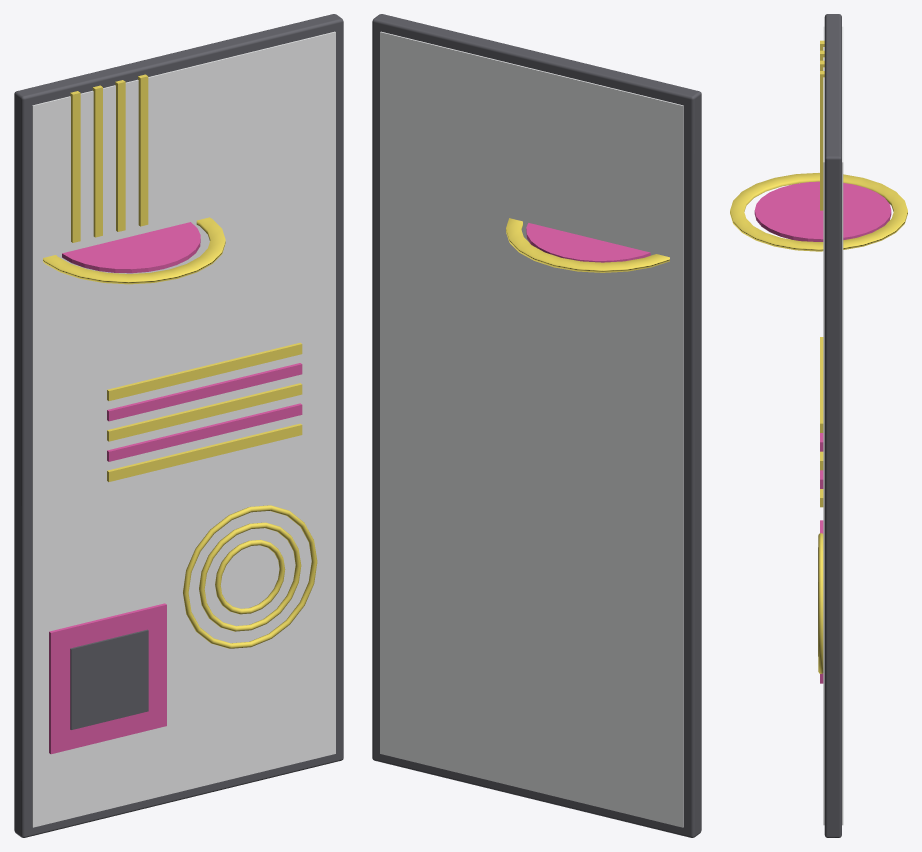
The model's file is tattoo-and-piercing-studio-flash-art-wall-panel-50099717__34553.glb.
The picture shows the model from 3 angles, left to right: view 1: azimuth 30°, elevation 25°; view 2: azimuth 150°, elevation 25°; view 3: azimuth 270°, elevation 25°; orthographic projection. The views are drawn at different scales.
Visible parts, largest first — view 1: flash-art-wall-panel; view 2: flash-art-wall-panel; view 3: flash-art-wall-panel.
Boxes of the visible parts, left/top/right/bottom form: flash-art-wall-panel: left=14, top=14, right=343, bottom=837; flash-art-wall-panel: left=372, top=14, right=701, bottom=837; flash-art-wall-panel: left=730, top=14, right=907, bottom=837.
Size of the model in its own units: 0.9999 by 2.2 by 0.52.
